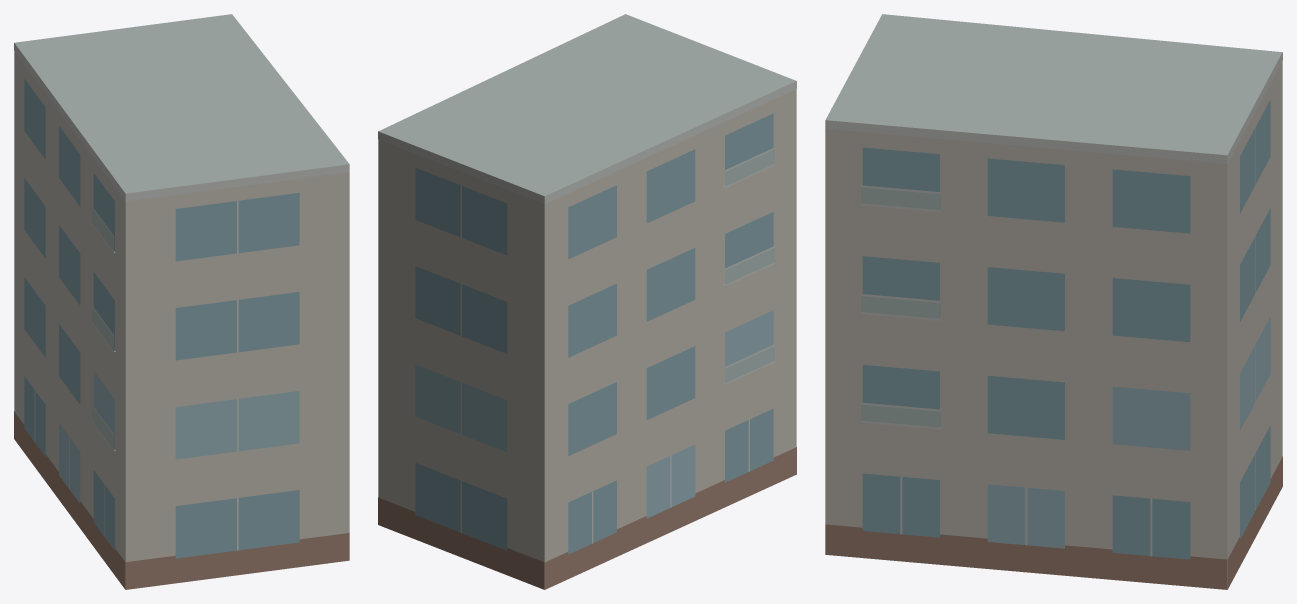
The model's file is residential-c7b6211a-f308-43b6-87c9-5b43c572e5e4.glb.
3 renders of one model, left to right at view 1: azimuth 30°, elevation 25°; view 2: azimuth 150°, elevation 25°; view 3: azimuth 270°, elevation 25°, orthographic. The views are drawn at different scales.
Visible parts, largest first — view 1: residential-c7b6211a-f308-43b6-87c9-5b43c572e5e4.tmp; view 2: residential-c7b6211a-f308-43b6-87c9-5b43c572e5e4.tmp; view 3: residential-c7b6211a-f308-43b6-87c9-5b43c572e5e4.tmp.
Boxes of the visible parts, left/top/right/bottom form: residential-c7b6211a-f308-43b6-87c9-5b43c572e5e4.tmp: left=14, top=14, right=349, bottom=589; residential-c7b6211a-f308-43b6-87c9-5b43c572e5e4.tmp: left=378, top=14, right=796, bottom=589; residential-c7b6211a-f308-43b6-87c9-5b43c572e5e4.tmp: left=825, top=14, right=1282, bottom=589.
Bounding box in the file's own units: 8.51 × 12.2 × 11.64.
